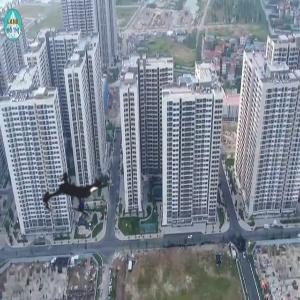drone: (22, 143, 131, 252)
